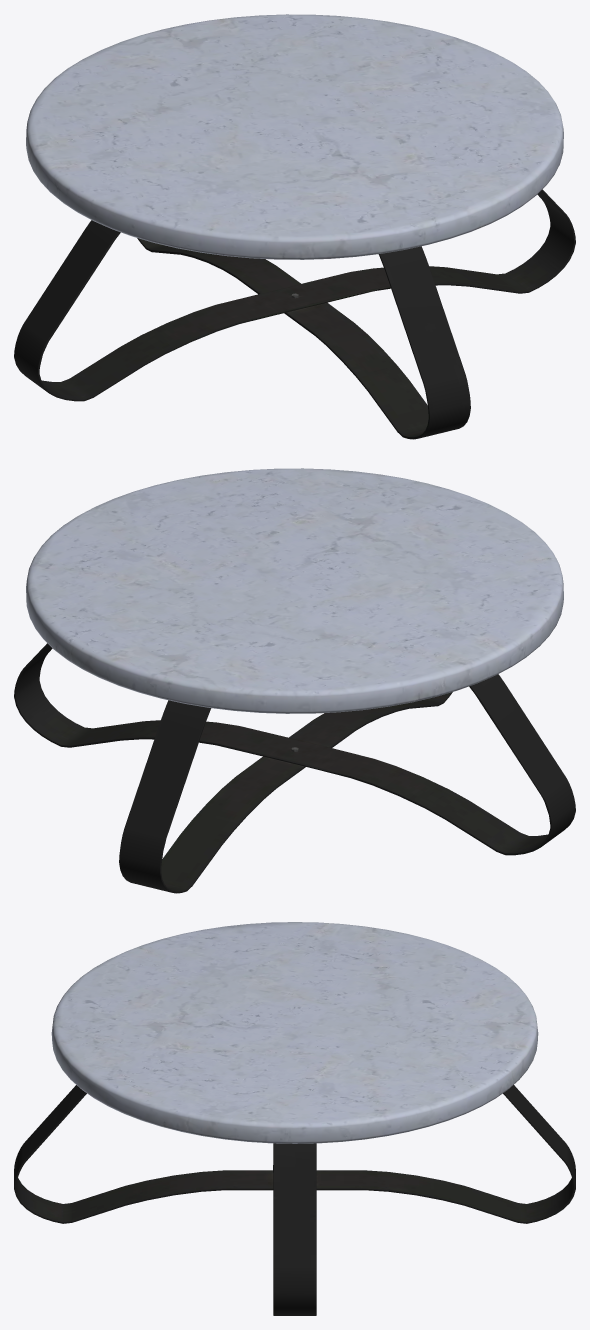
The model's file is coffee_table_round_01.glb.
3 renders of one model, top to bottom at view 1: azimuth 30°, elevation 25°; view 2: azimuth 150°, elevation 25°; view 3: azimuth 270°, elevation 25°, orthographic. The views are drawn at different scales.
Parts seen in each view (by area): view 1: coffee_table_round_01; view 2: coffee_table_round_01; view 3: coffee_table_round_01.
Part boxes in pixels (<box>): coffee_table_round_01: <box>14,14,575,439</box>; coffee_table_round_01: <box>14,468,575,893</box>; coffee_table_round_01: <box>14,922,575,1315</box>.
Bounding box in the file's own units: 1.3 × 0.4909 × 1.3.
1 material, 1 textured.
